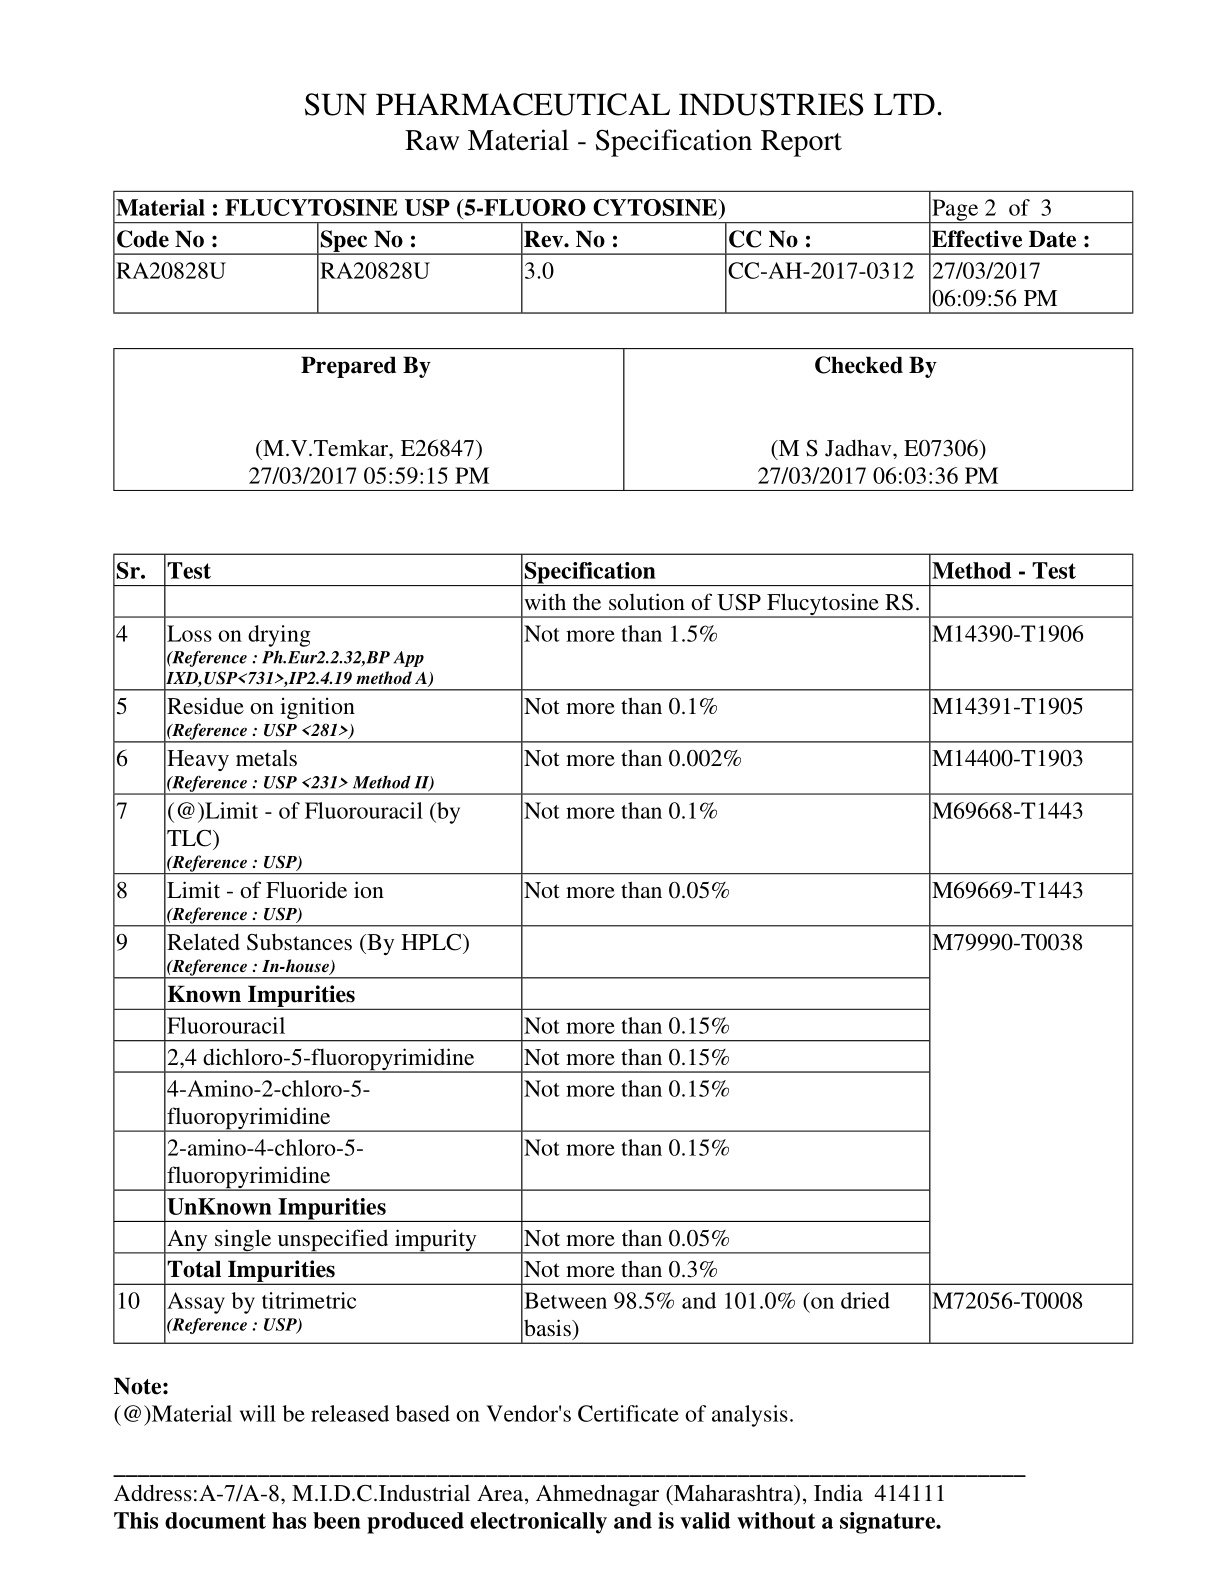full_lined: (112, 346, 1134, 492)
merged_cells: (113, 552, 1135, 1345), (112, 189, 1135, 314)
